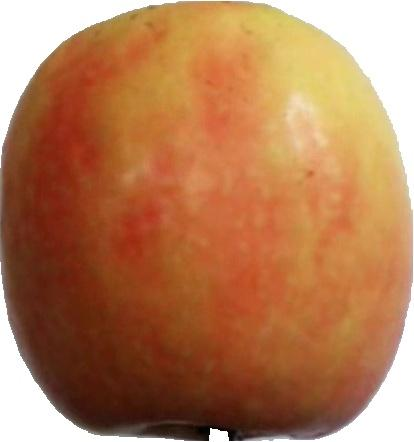fruit: (0, 4, 414, 442)
